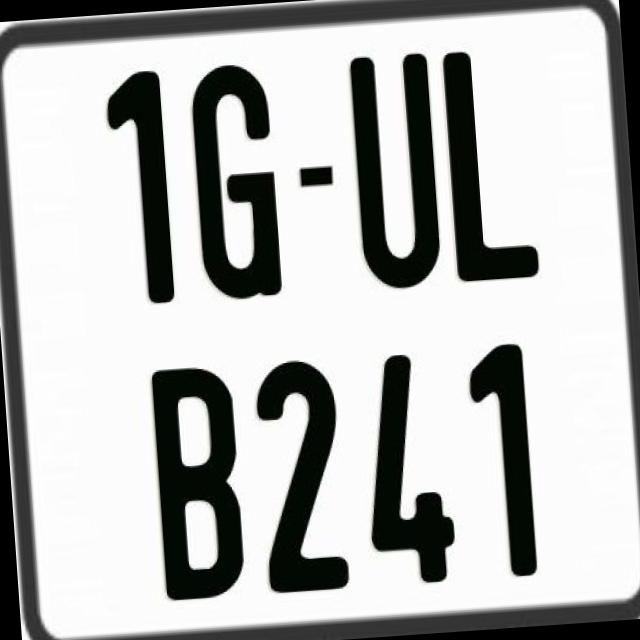1: (104, 68, 182, 308), (462, 343, 534, 580)
2: (250, 358, 346, 598)
4: (357, 346, 464, 584)
B: (150, 360, 252, 598)
G: (188, 62, 290, 307)
L: (438, 48, 540, 282)
U: (346, 53, 442, 298)
